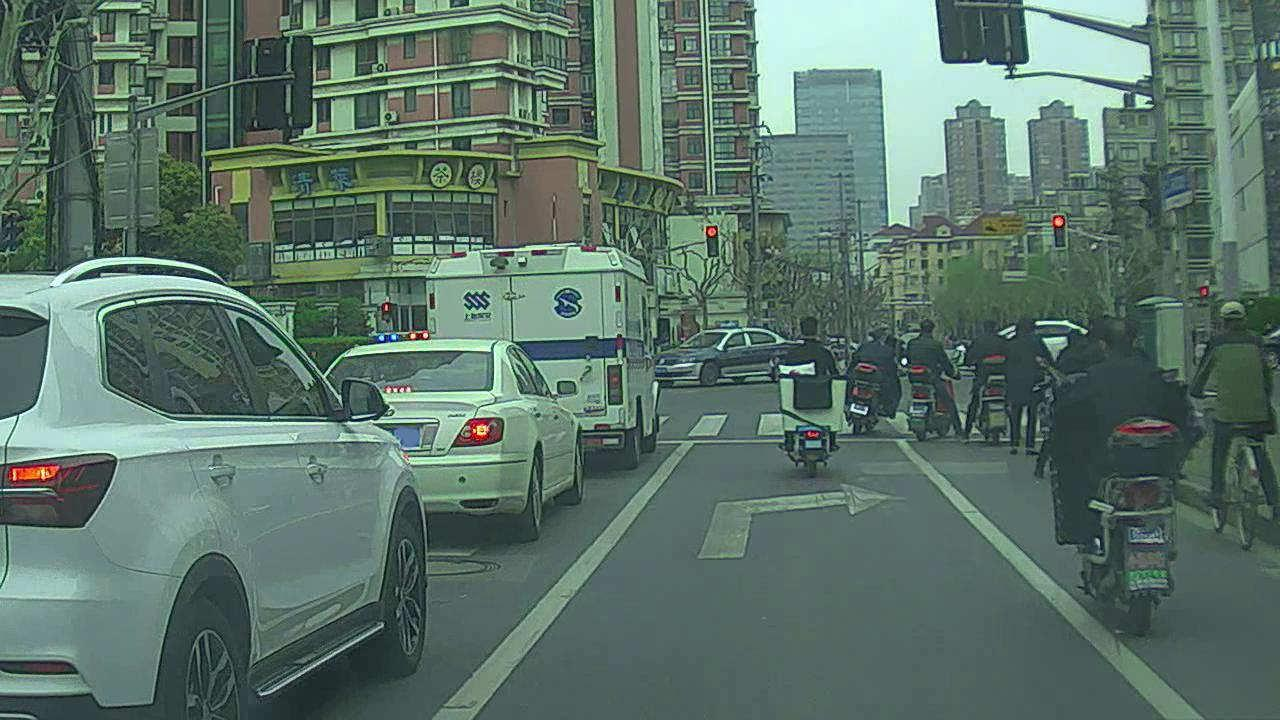traffic_light: (1050, 213, 1071, 250), (703, 227, 719, 261)
